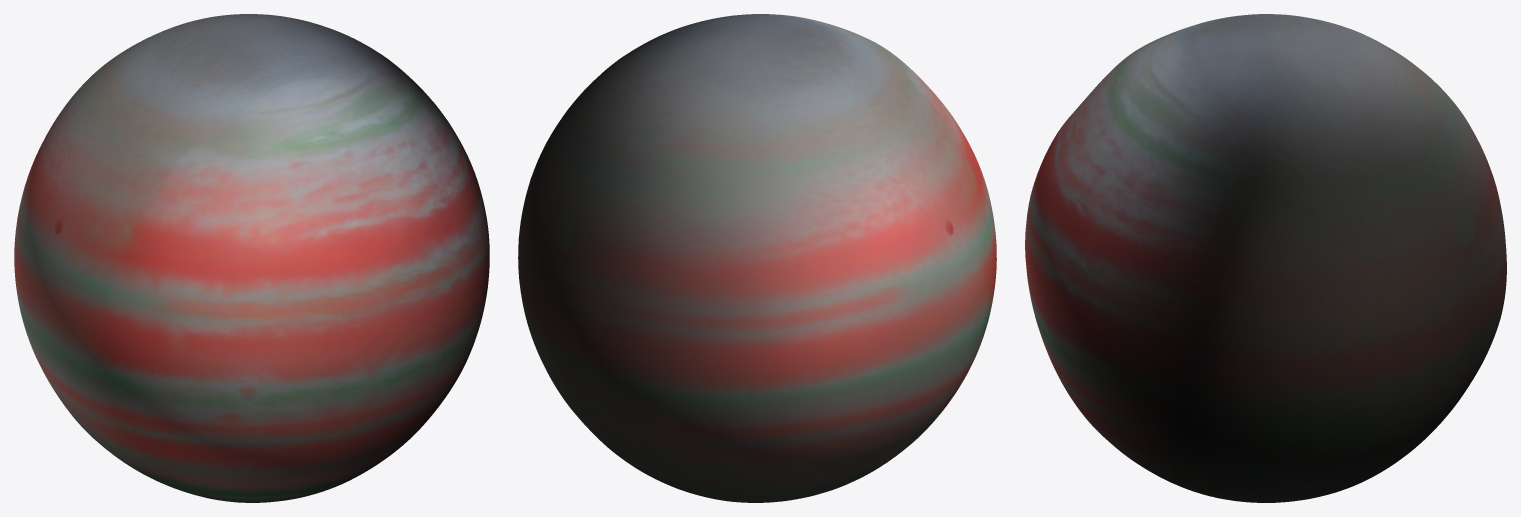
The model's file is nebula_rose.glb.
The picture shows the model from 3 angles, left to right: view 1: azimuth 30°, elevation 25°; view 2: azimuth 150°, elevation 25°; view 3: azimuth 270°, elevation 25°; orthographic projection.
Size of the model in its own units: 0.9277 by 0.9567 by 0.9352.
Materials: 1 (1 with a texture image).
